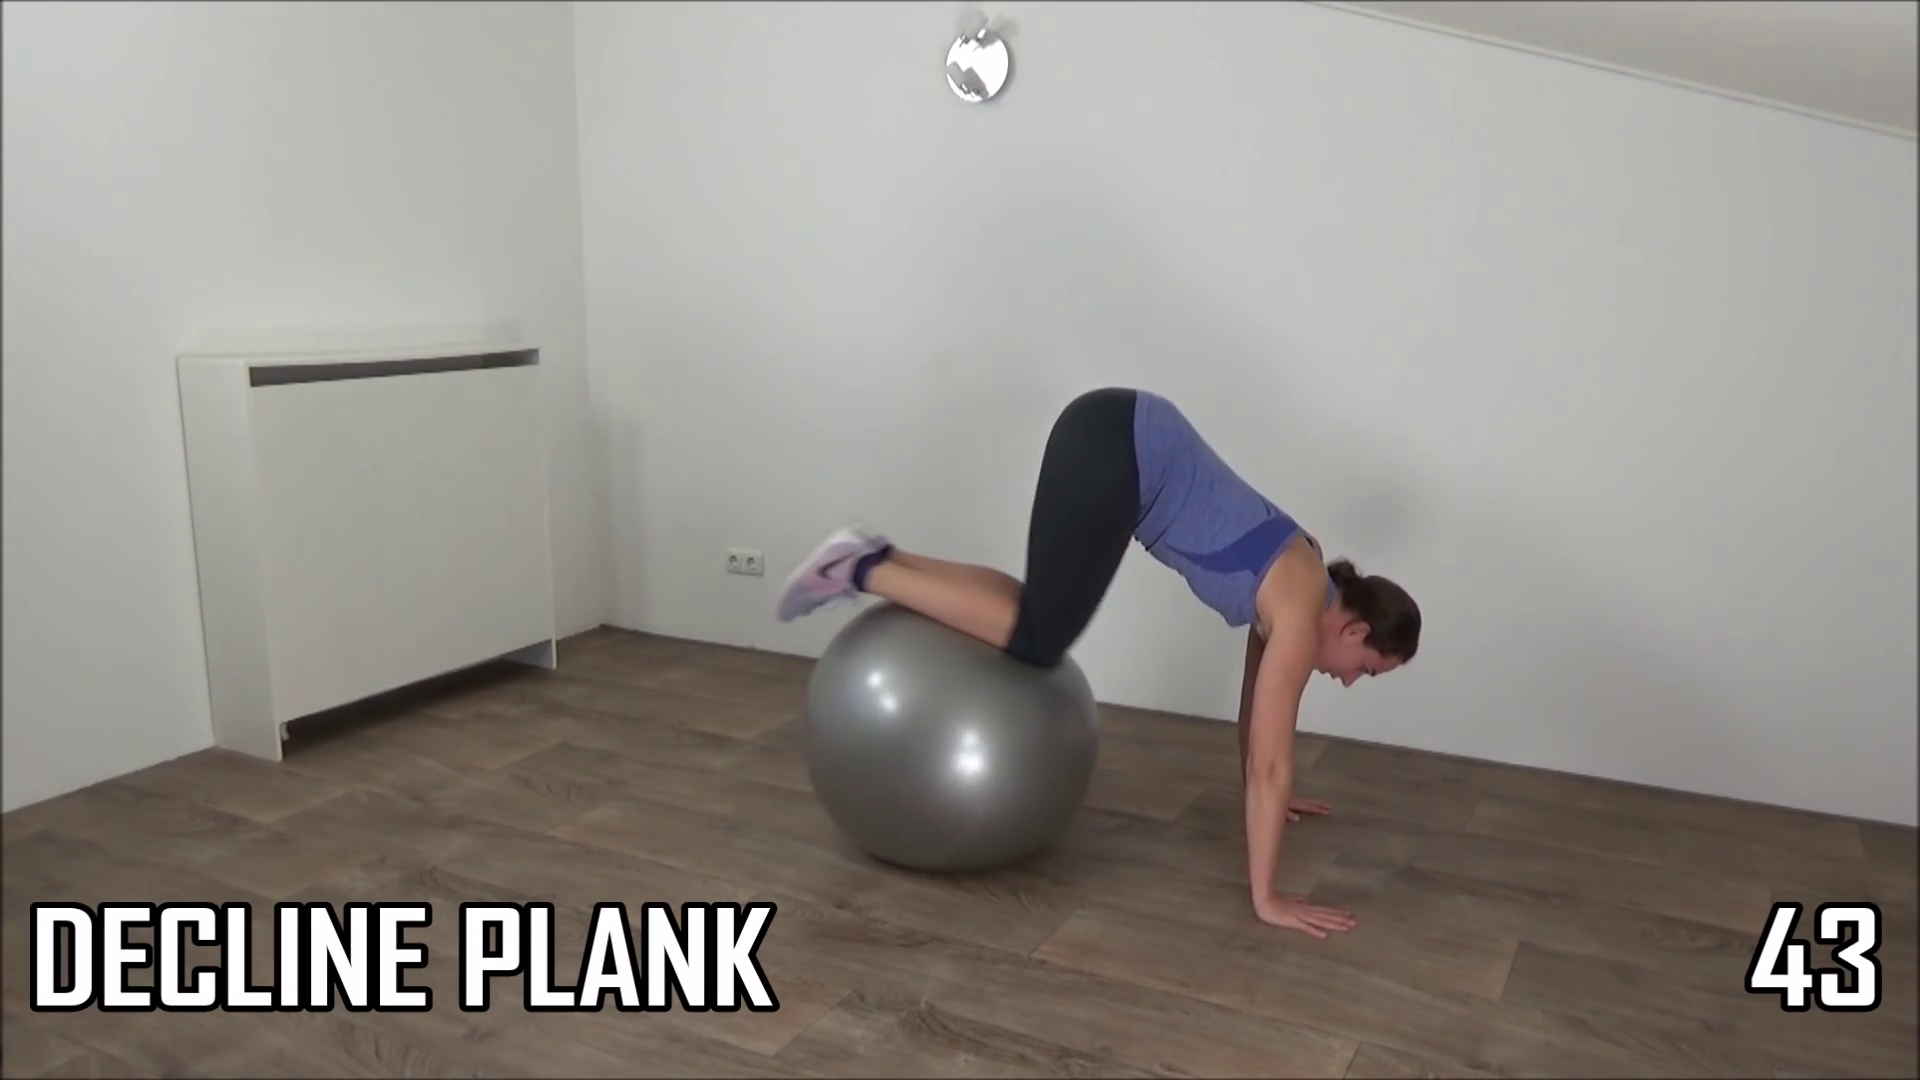yogaball: (787, 587, 1114, 876)
